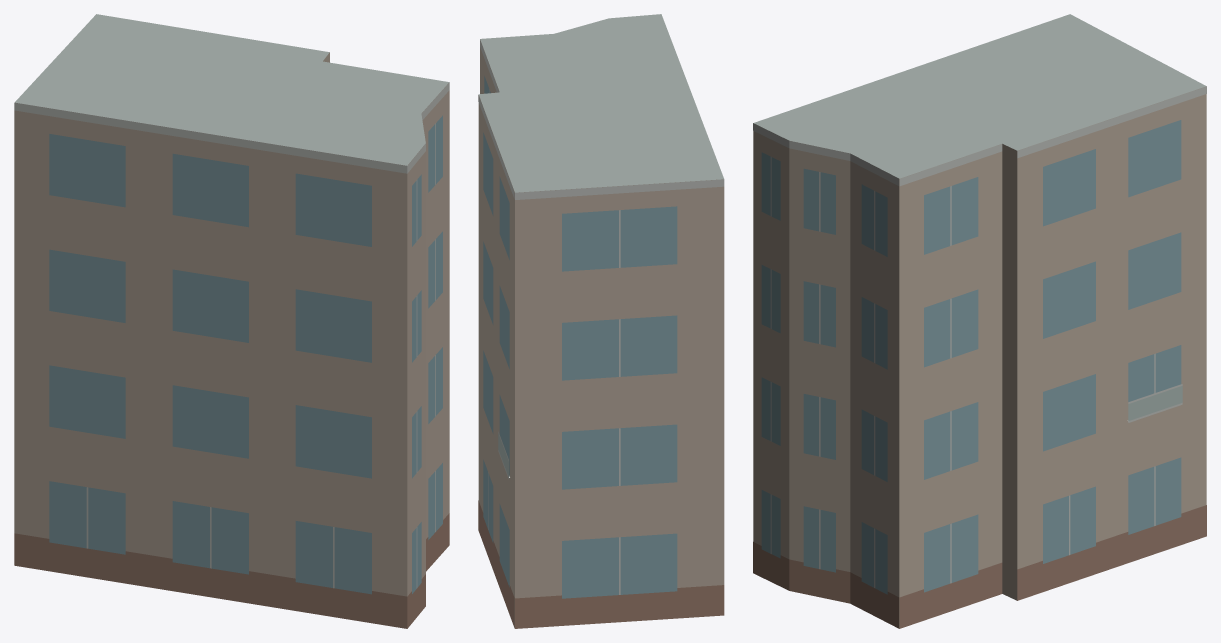
Rendered from survey-upis-32740436.glb.
3 renders of one model, left to right at view 1: azimuth 30°, elevation 25°; view 2: azimuth 150°, elevation 25°; view 3: azimuth 270°, elevation 25°, orthographic. The views are drawn at different scales.
Parts seen in each view (by area): view 1: survey-upis-32740436.tmp; view 2: survey-upis-32740436.tmp; view 3: survey-upis-32740436.tmp.
Part boxes in pixels (left/top/right/bottom): survey-upis-32740436.tmp: left=14, top=14, right=449, bottom=628; survey-upis-32740436.tmp: left=478, top=14, right=724, bottom=628; survey-upis-32740436.tmp: left=753, top=14, right=1206, bottom=628.
Size of the model in its own units: 11.23 by 14.3 by 13.06.
